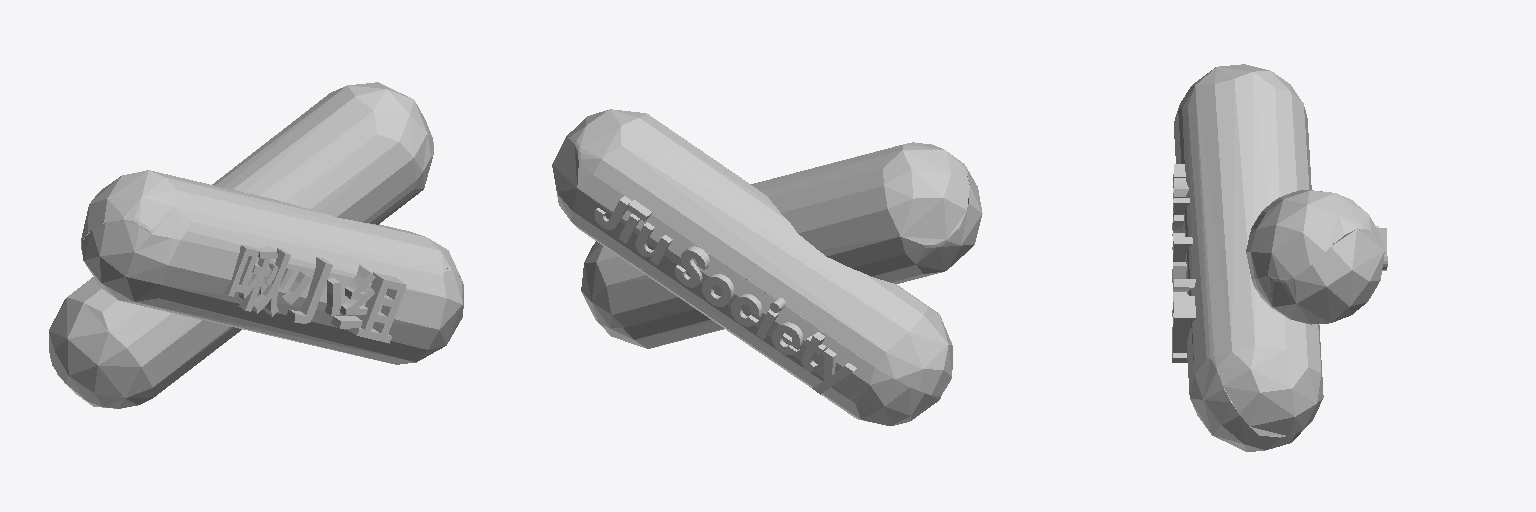
File: JiuSociety.obj
The picture shows the model from 3 angles: view 1: azimuth 30°, elevation 25°; view 2: azimuth 150°, elevation 25°; view 3: azimuth 270°, elevation 25°; orthographic projection.
Visible parts, largest first — view 1: root_3, root_2, node_id403; view 2: root_2, root_3, node_id414; view 3: root_3, root_2, node_id403.
Part boxes in pixels (x1,y1,x2,y2): root_3: (81, 170, 463, 364); root_2: (49, 82, 433, 408); node_id403: (224, 245, 406, 343); root_2: (552, 109, 952, 425); root_3: (581, 142, 982, 348); node_id414: (594, 196, 856, 394); root_3: (1174, 64, 1323, 451); root_2: (1246, 190, 1384, 324); node_id403: (1172, 164, 1195, 362).
Bounding box in the file's own units: 0.289 × 0.1836 × 0.1429.